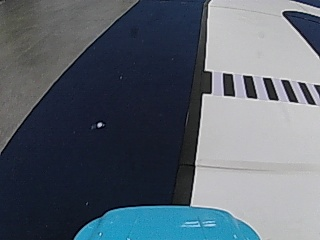CrossWalk: (208, 71, 313, 102)
